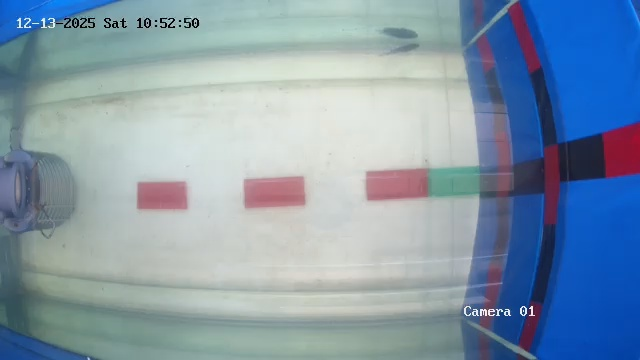fish: (383, 40, 430, 58)
